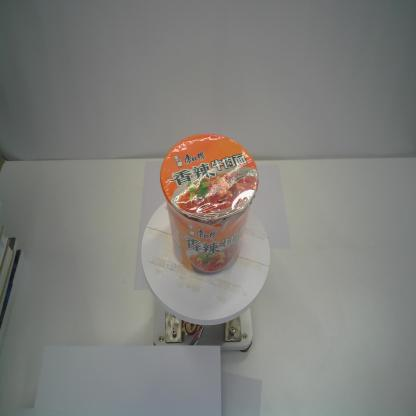Instant Noodles: (159, 131, 259, 279)
